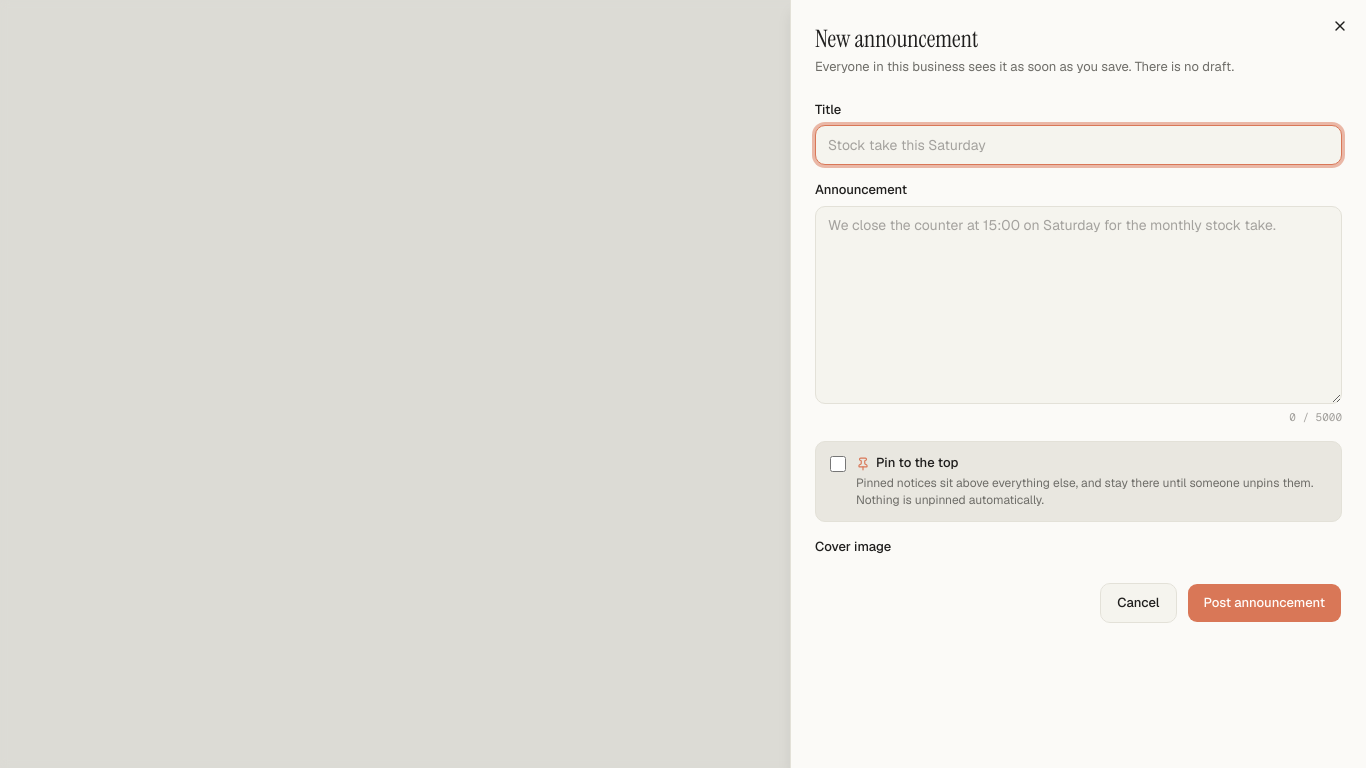
AnnouncementFormSheet — refusals › shows a wrong-purpose upload at the cover control
In the field labelled "Title": (1078, 145) [815,125,1342,165], type "T"
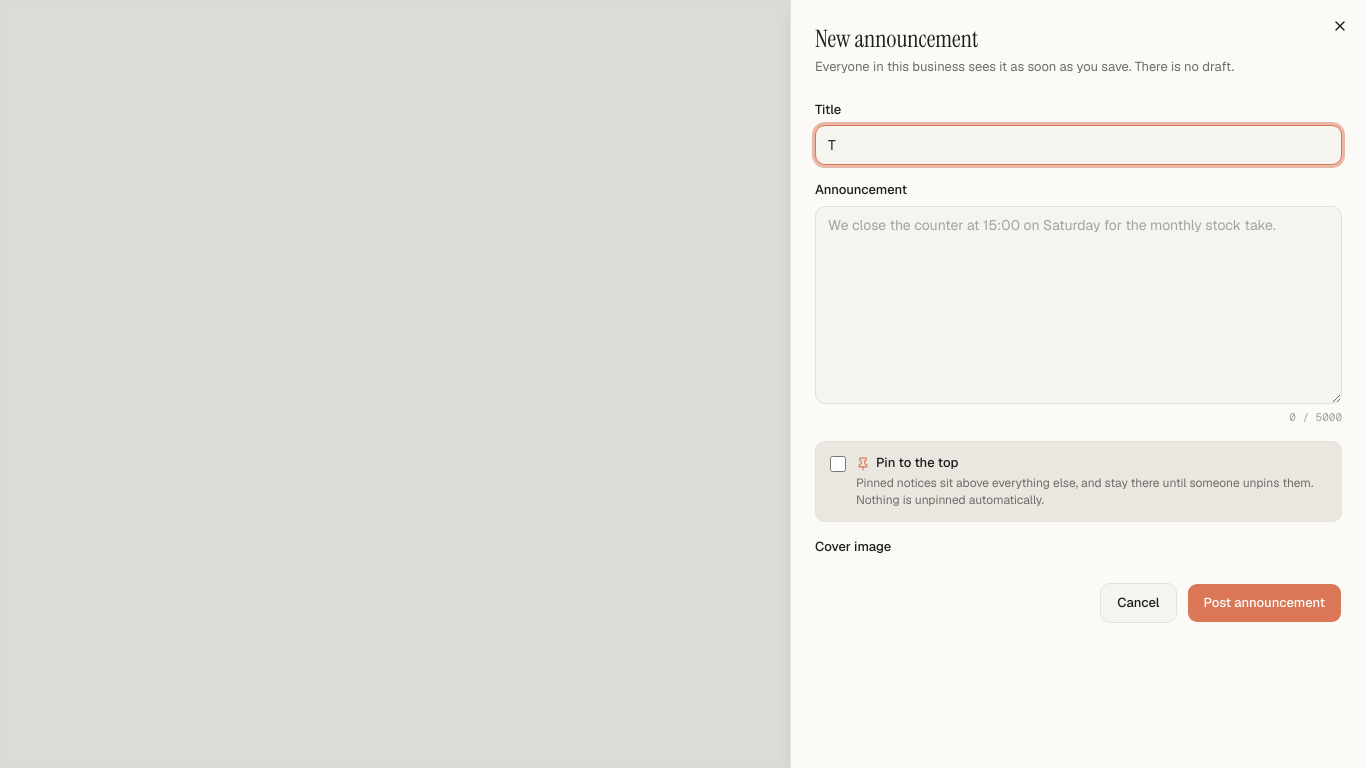
In the text box labelled "Announcement": (1078, 305) [815,206,1342,404], type "B"
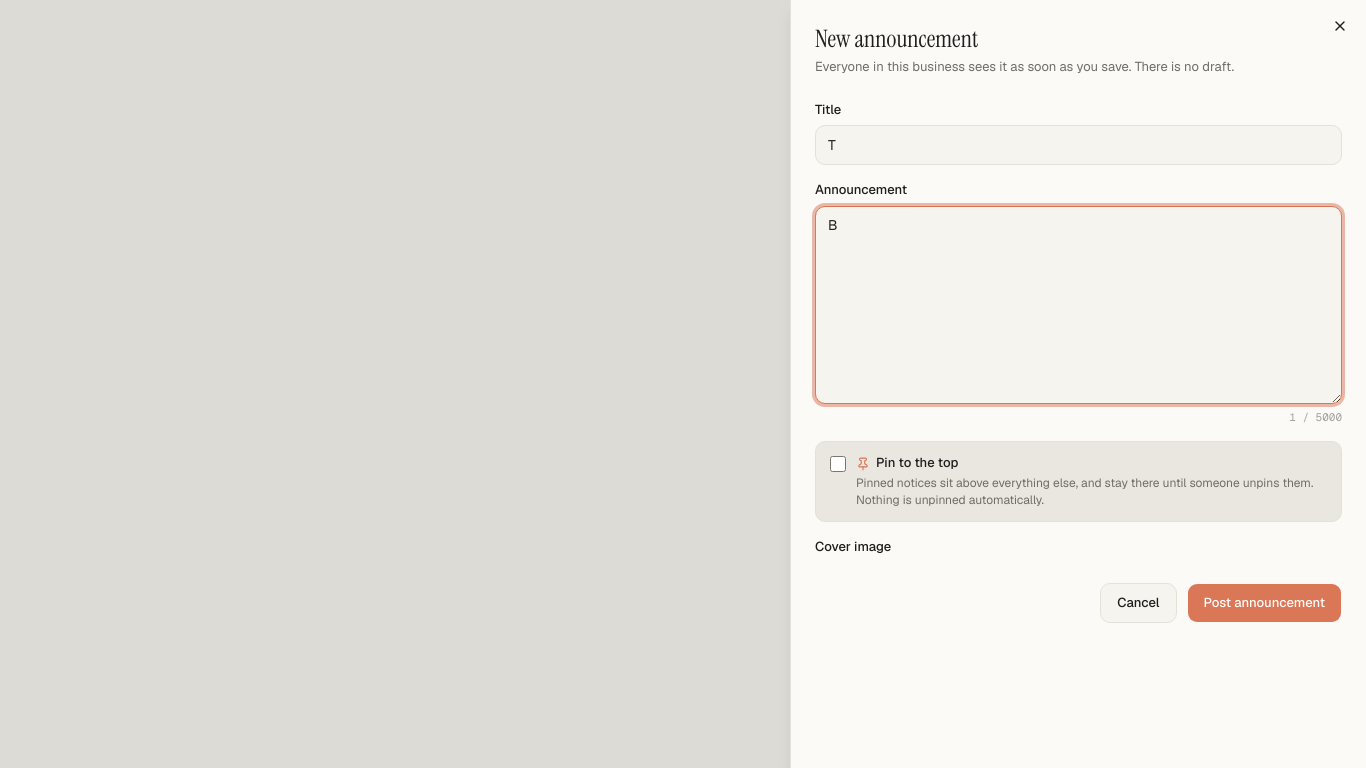
Click the button "Post announcement": click(1264, 603) [1186,583,1342,623]
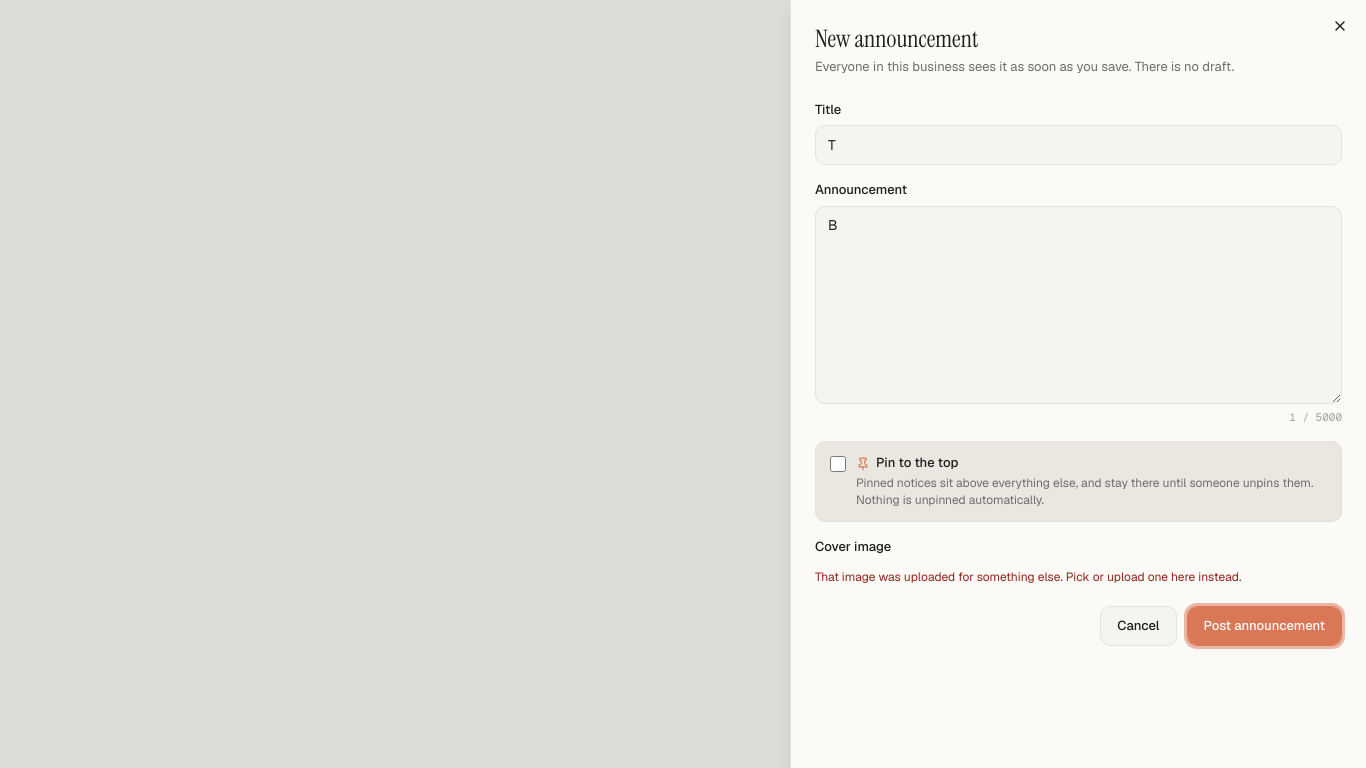
Expected: the message shows "That image was uploaded for something else", [815,569,1241,585]
